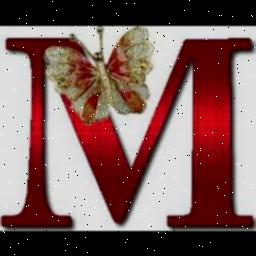m: (2, 34, 256, 230)
